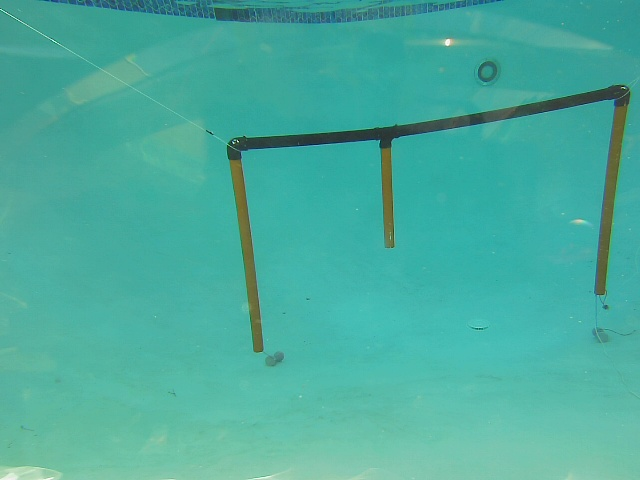Gate: (587, 100, 628, 298), (228, 155, 265, 354), (377, 143, 398, 255)
